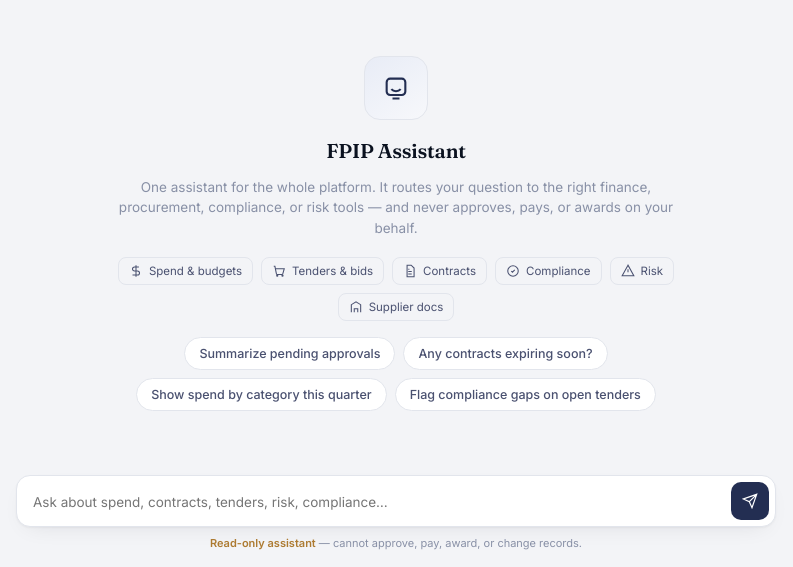
Test: Chat › surfaces a streaming error to the user instead of failing silently
Type "Show spend by category" into the text box with placeholder "Ask about spend, contracts, tenders, risk, compliance…" at (378, 502), box x1=33 y1=484 x2=723 y2=520
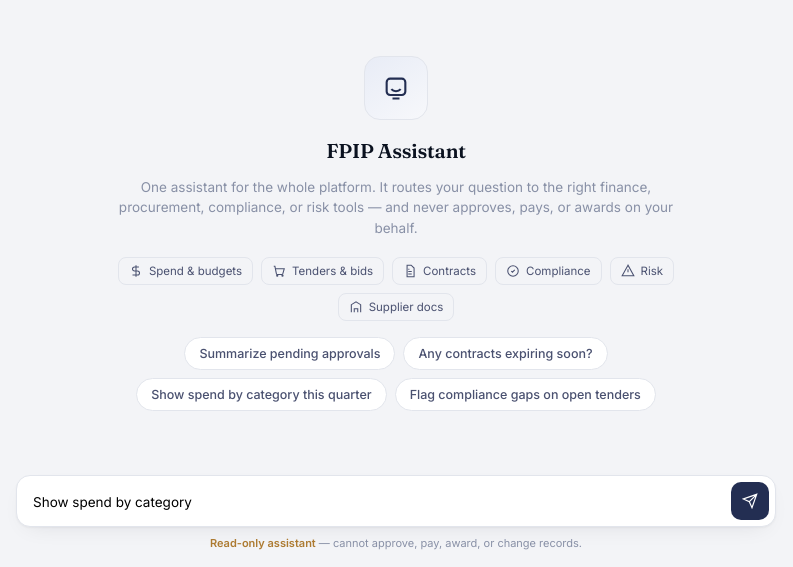
Click the button named "send" at (750, 501), box x1=731 y1=482 x2=769 y2=520
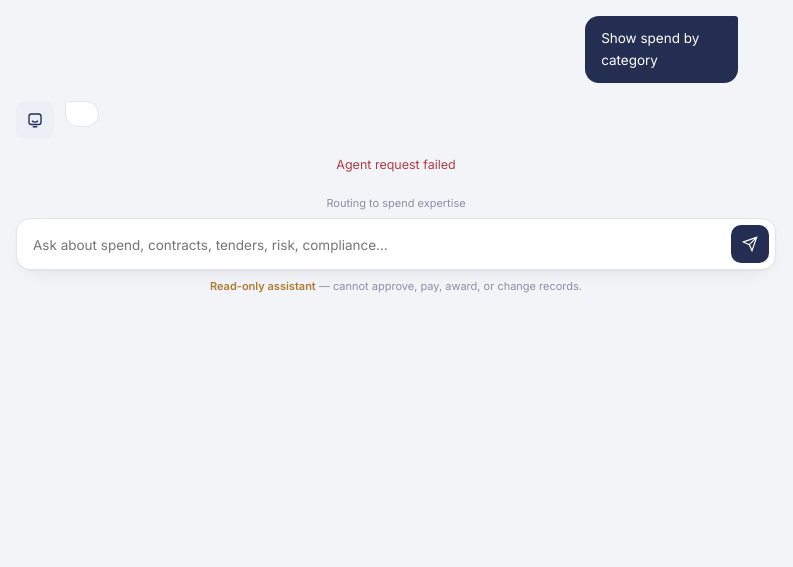
expect the text "Agent request failed" is shown: met, box x1=336 y1=157 x2=456 y2=172
